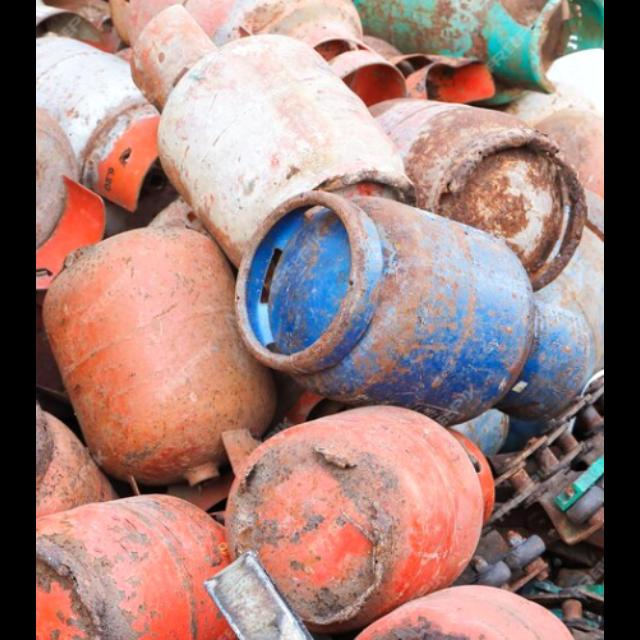Cylinders: (224, 188, 599, 413)
